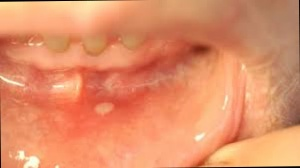Ulcer: (89, 101, 119, 121)
